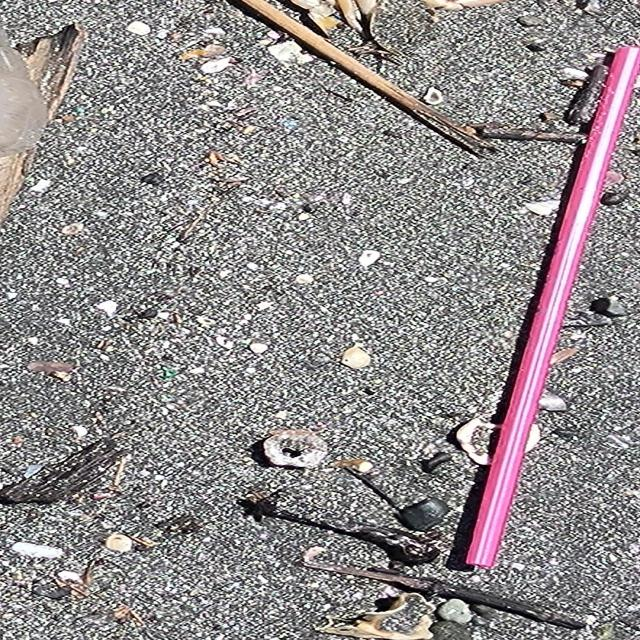plastic_waste: (466, 38, 640, 574)
